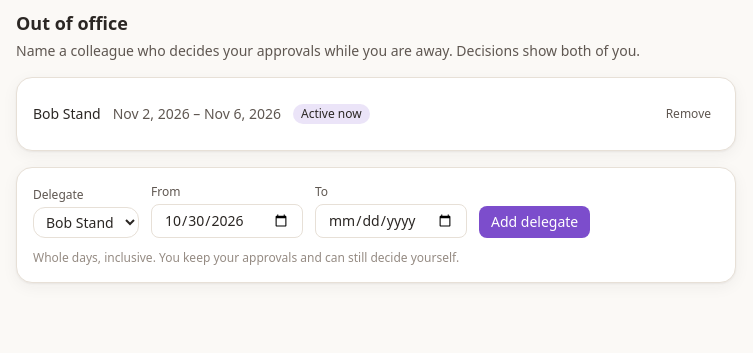
it: OutOfOfficePage › explains an overlap and removes a delegation
Check: the text "Bob Stand" is shown, box [33, 104, 101, 124]
Type "2026-11-04" into the date field labelled "To" at [391, 221], box [315, 204, 467, 238]
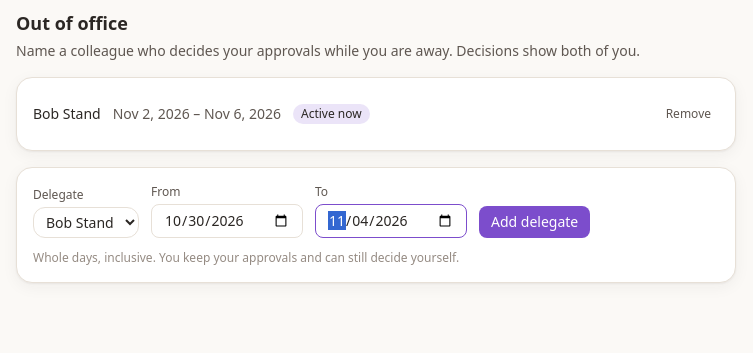
Click the button "Add delegate" at [535, 222], box [479, 206, 590, 238]
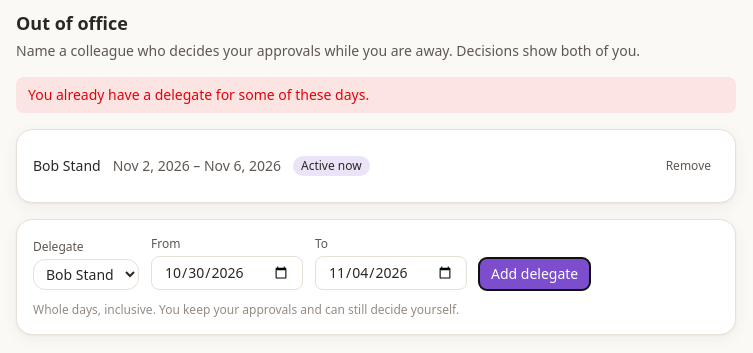
Check: the text "You already have a delegate for some of these days." is shown, box [16, 77, 736, 113]
Click the button "Remove" at [688, 166], box [658, 154, 719, 178]
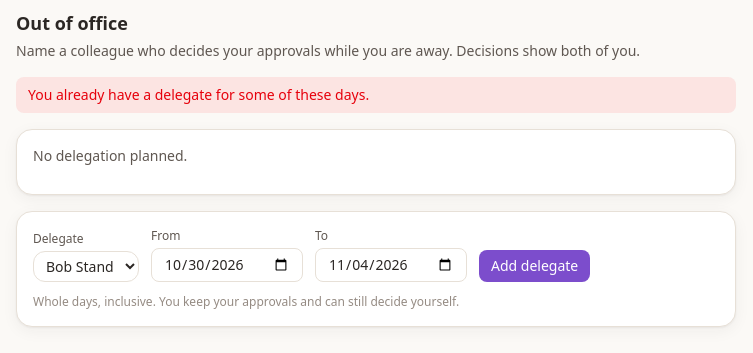
Check: the text "No delegation planned." is shown, box [33, 146, 187, 165]
